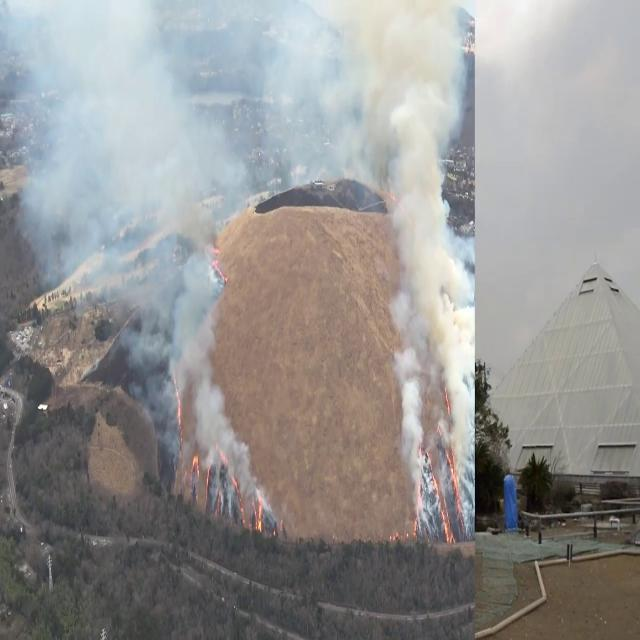Smoke: (8, 1, 264, 512), (357, 4, 475, 538)
